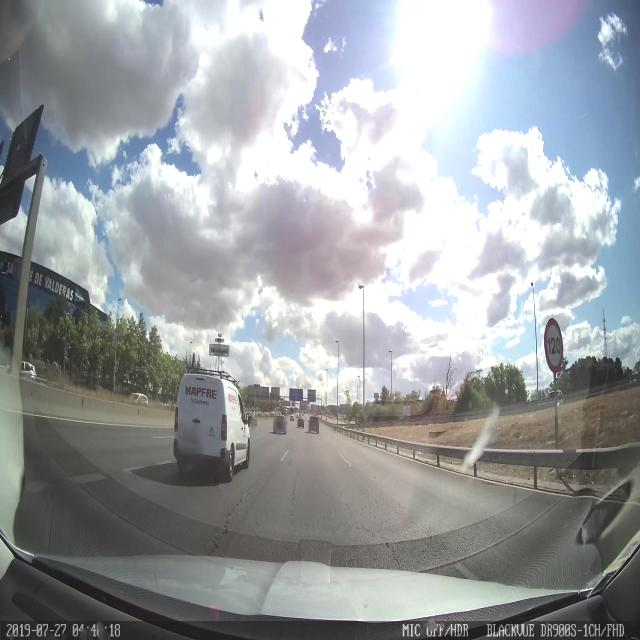car: (172, 368, 252, 482), (20, 362, 46, 382), (272, 414, 286, 435), (308, 413, 319, 433), (130, 392, 148, 404), (296, 415, 304, 428)
